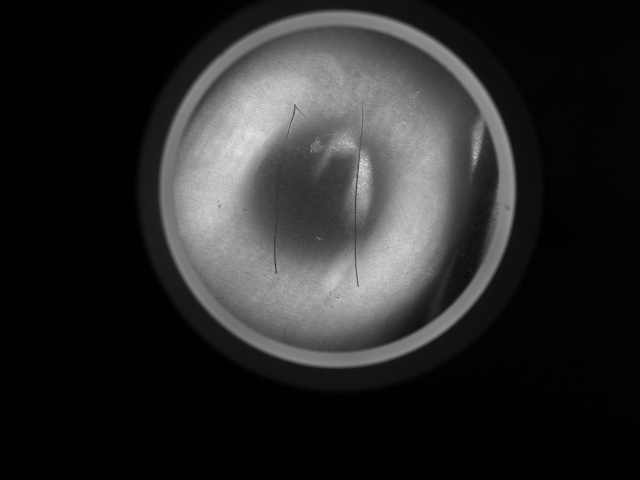ca_shang: (271, 98, 310, 276), (347, 97, 369, 290)
